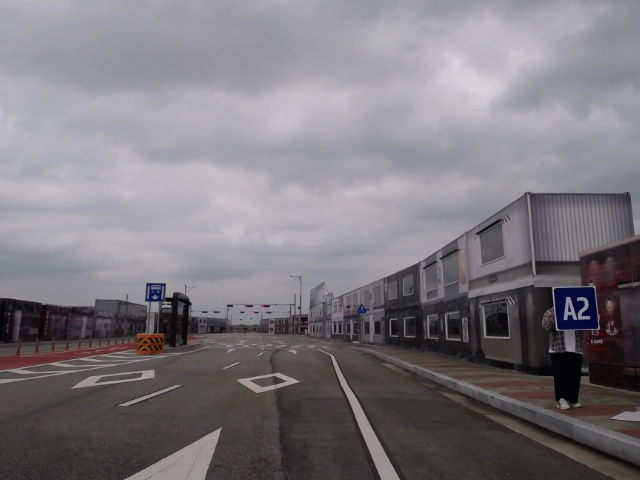delivery_a2: (552, 286, 599, 331)
